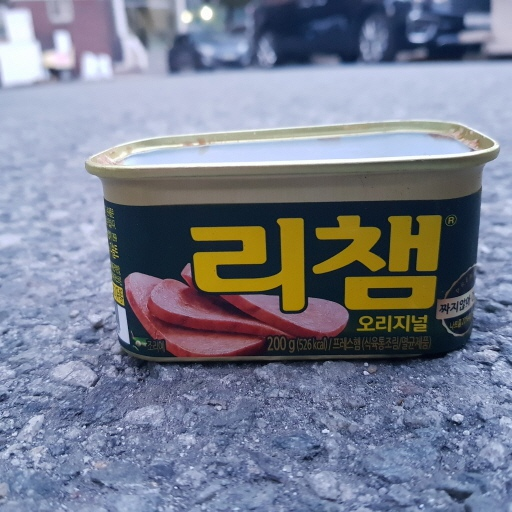Metal_2: (89, 117, 503, 368)
